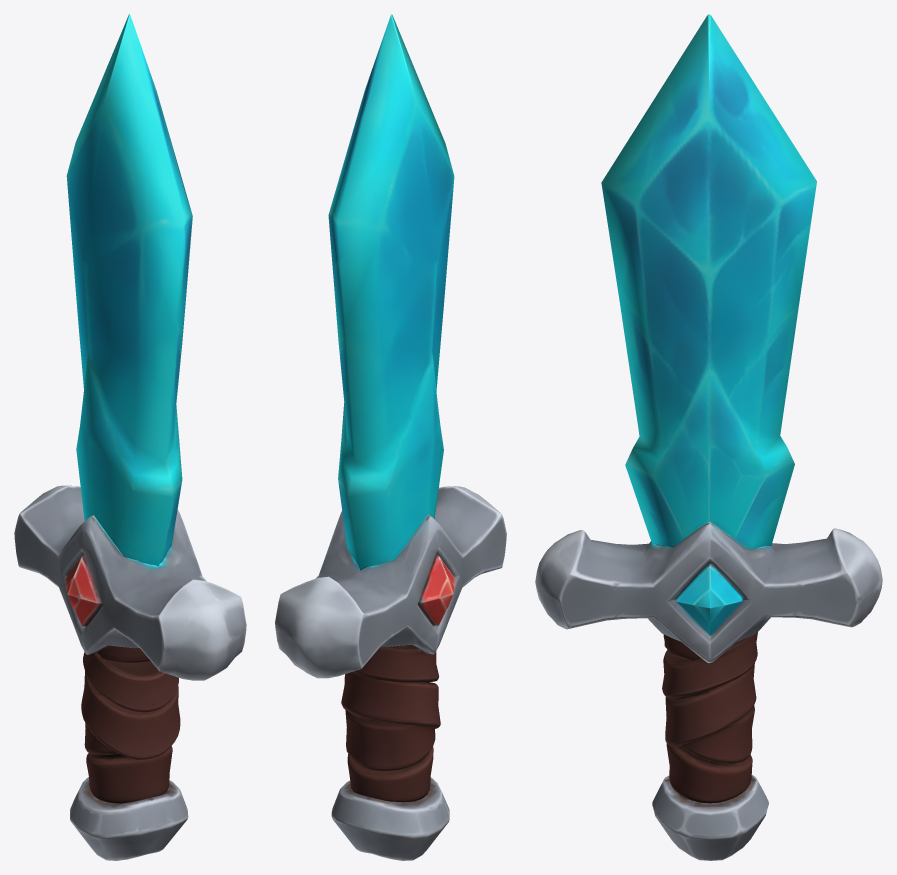
The model's file is sword.glb.
The picture shows the model from 3 angles, left to right: view 1: azimuth 30°, elevation 25°; view 2: azimuth 150°, elevation 25°; view 3: azimuth 270°, elevation 25°; orthographic projection.
Visible parts, largest first — view 1: tripo_node_249f0c5b-66a8-4442-8e9c-56196ee3698e; view 2: tripo_node_249f0c5b-66a8-4442-8e9c-56196ee3698e; view 3: tripo_node_249f0c5b-66a8-4442-8e9c-56196ee3698e.
Part boxes in pixels (left/top/right/bottom): tripo_node_249f0c5b-66a8-4442-8e9c-56196ee3698e: left=14, top=14, right=246, bottom=860; tripo_node_249f0c5b-66a8-4442-8e9c-56196ee3698e: left=275, top=14, right=506, bottom=860; tripo_node_249f0c5b-66a8-4442-8e9c-56196ee3698e: left=535, top=14, right=882, bottom=860.
Size of the model in its own units: 0.1567 by 0.9995 by 0.3774.
Materials: 1 (1 with a texture image).
